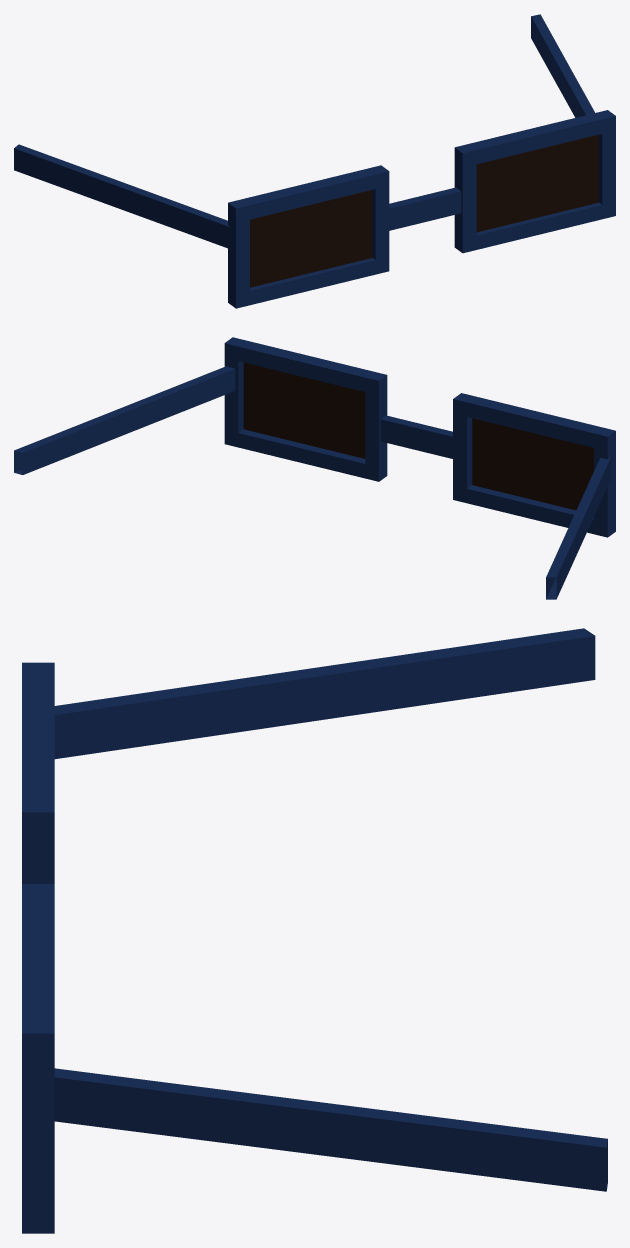
File: Glasses_nerd_1.FBX
3 views of the same model, one above another, from view 1: azimuth 30°, elevation 25°; view 2: azimuth 150°, elevation 25°; view 3: azimuth 270°, elevation 25° (orthographic). The views are drawn at different scales.
Visible parts, largest first — view 1: Glasses_nerd; view 2: Glasses_nerd; view 3: Glasses_nerd.
Boxes of the visible parts, left/top/right/bottom form: Glasses_nerd: left=14, top=14, right=615, bottom=308; Glasses_nerd: left=14, top=337, right=615, bottom=599; Glasses_nerd: left=22, top=628, right=607, bottom=1233.
Size of the model in its own units: 5.97 by 2.84 by 1.07.
